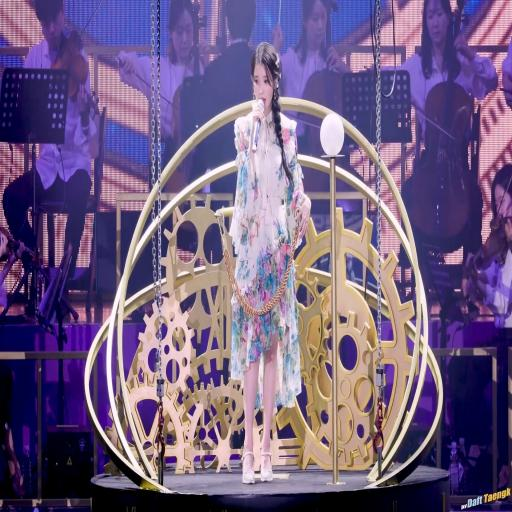IU: (251, 42, 281, 108)
